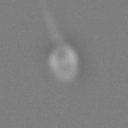normal: (36, 1, 63, 45)
